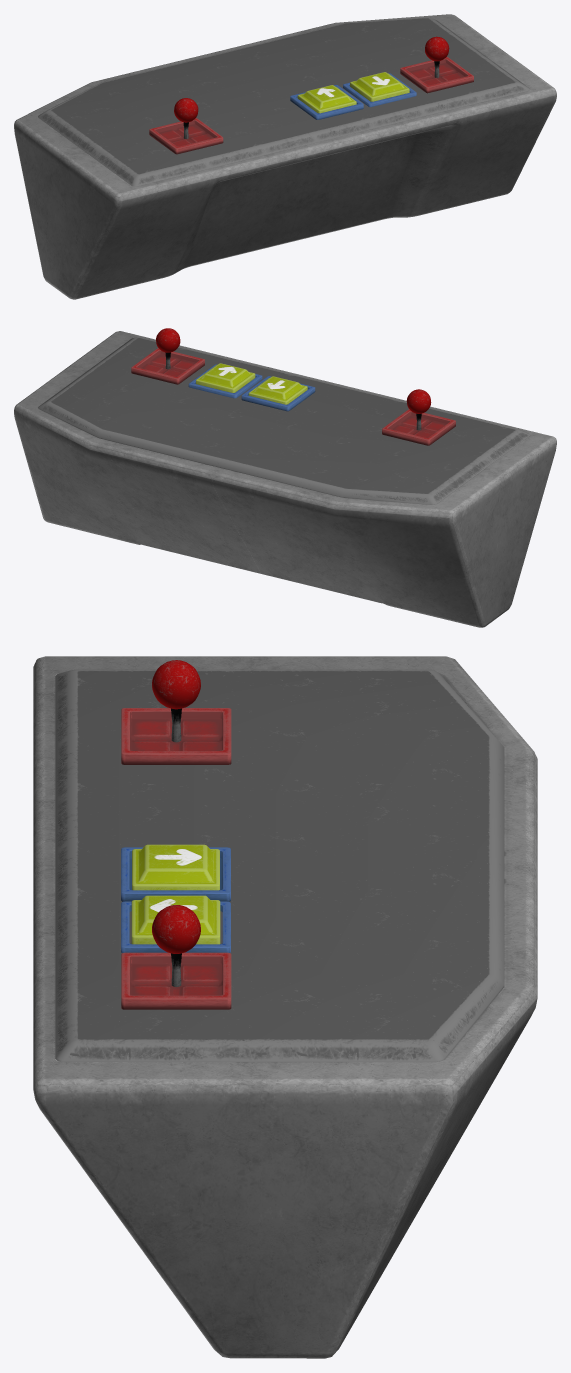
The model's file is panel2.fbx.
3 views of the same model, one above another, from view 1: azimuth 30°, elevation 25°; view 2: azimuth 150°, elevation 25°; view 3: azimuth 270°, elevation 25° (orthographic). The views are drawn at different scales.
Visible parts, largest first — view 1: Plane.001, Plane.003, Cube.005, Cube.004, Cube.002, Cube.003, Cube, Sphere, Sphere.001, Cube.001; view 2: Plane.001, Plane.003, Cube.005, Cube.004, Cube.002, Cube.003, Cube, Sphere.001, Sphere, Cube.001; view 3: Plane.003, Plane.001, Cube.004, Cube.005, Cube.003, Cube.002, Sphere.001, Sphere, Cube, Cube.001.
Boxes of the visible parts, bbox=[...] form: Plane.001: bbox=[14, 14, 556, 299]; Plane.003: bbox=[38, 17, 530, 186]; Cube.005: bbox=[149, 118, 223, 154]; Cube.004: bbox=[400, 57, 473, 93]; Cube.002: bbox=[350, 72, 409, 101]; Cube.003: bbox=[297, 85, 356, 113]; Cube: bbox=[290, 84, 363, 119]; Sphere: bbox=[425, 36, 449, 77]; Sphere.001: bbox=[174, 98, 198, 138]; Cube.001: bbox=[343, 73, 416, 107]; Plane.001: bbox=[14, 331, 556, 627]; Plane.003: bbox=[38, 337, 530, 504]; Cube.005: bbox=[382, 409, 455, 445]; Cube.004: bbox=[131, 348, 204, 384]; Cube.002: bbox=[196, 363, 255, 392]; Cube.003: bbox=[248, 376, 307, 404]; Cube: bbox=[241, 376, 315, 411]; Sphere.001: bbox=[406, 389, 431, 430]; Sphere: bbox=[156, 328, 180, 369]; Cube.001: bbox=[188, 364, 262, 398]; Plane.003: bbox=[55, 669, 504, 1061]; Plane.001: bbox=[33, 656, 537, 1358]; Cube.004: bbox=[121, 952, 231, 1009]; Cube.005: bbox=[121, 708, 231, 764]; Cube.003: bbox=[132, 844, 219, 890]; Cube.002: bbox=[131, 895, 220, 944]; Sphere.001: bbox=[152, 660, 200, 742]; Sphere: bbox=[152, 905, 200, 986]; Cube: bbox=[121, 847, 230, 901]; Cube.001: bbox=[121, 901, 230, 952].
Size of the model in its own units: 176 by 70.71 by 87.02.
6 materials, 6 textured.
